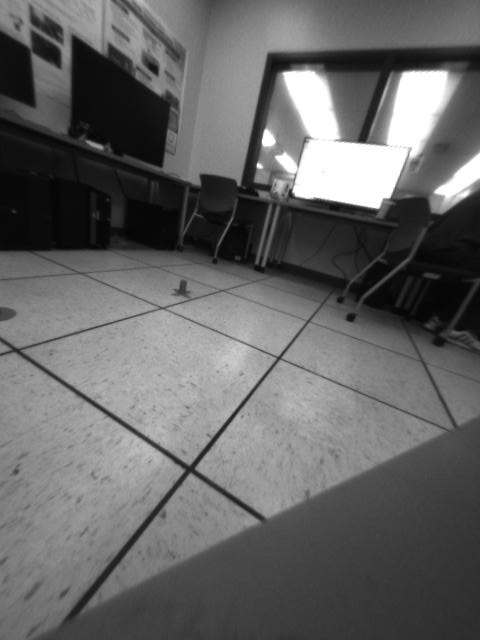X: (170, 280, 191, 298)
